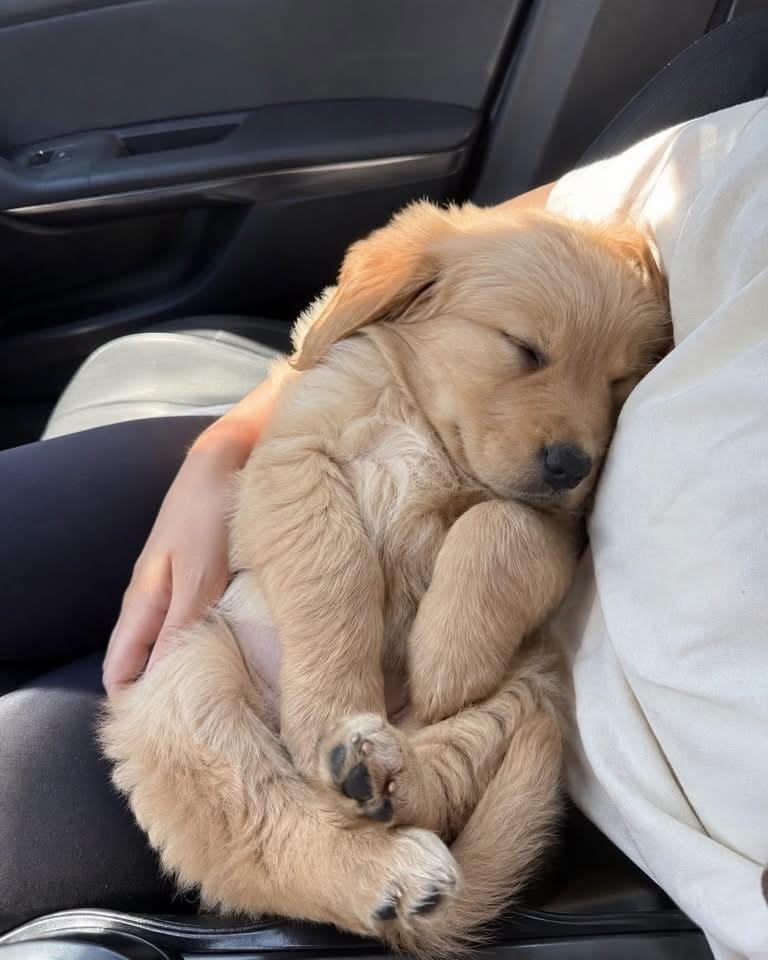puppy-dog: (91, 192, 677, 960)
